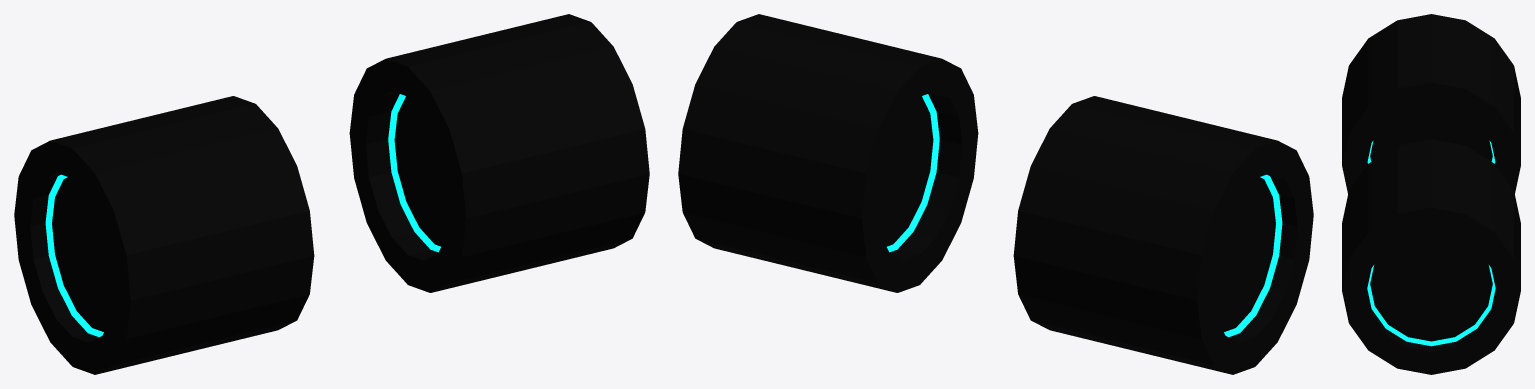
Rendered from Tiko wiheels.fbx.
3 views of the same model, side by side, from view 1: azimuth 30°, elevation 25°; view 2: azimuth 150°, elevation 25°; view 3: azimuth 270°, elevation 25° (orthographic). The views are drawn at different scales.
Visible parts, largest first — view 1: Wheels; view 2: Wheels; view 3: Wheels.
Boxes of the visible parts, bbox=[...] form: Wheels: bbox=[14, 14, 649, 374]; Wheels: bbox=[678, 14, 1313, 374]; Wheels: bbox=[1342, 14, 1520, 374].
Size of the model in its own units: 49.19 by 19.78 by 19.18.
